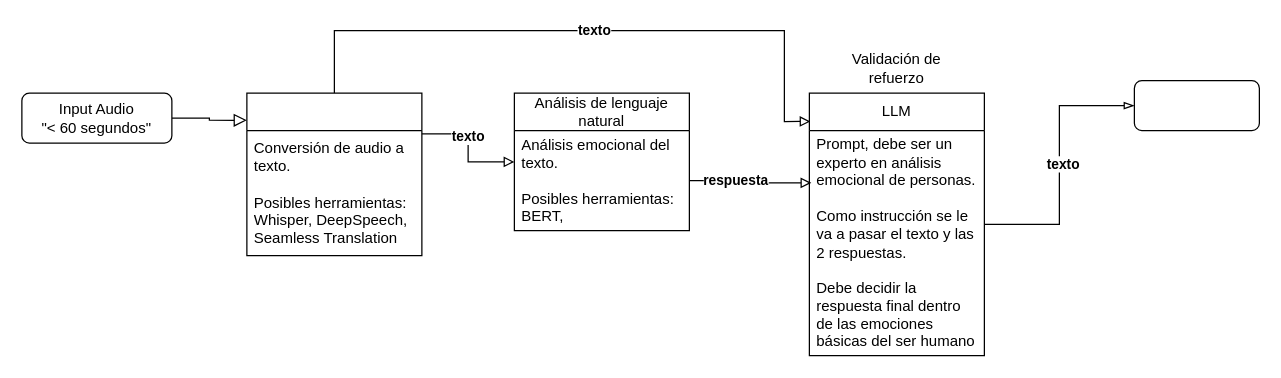
The diagram is 1281 pixels wide and 378 high, and some of its shapes have lost their labels. Each missing label, with the box of its shape:
Salida "Emoción": (1133, 79, 1259, 131)
Transcripción del audio: (246, 92, 422, 256)
